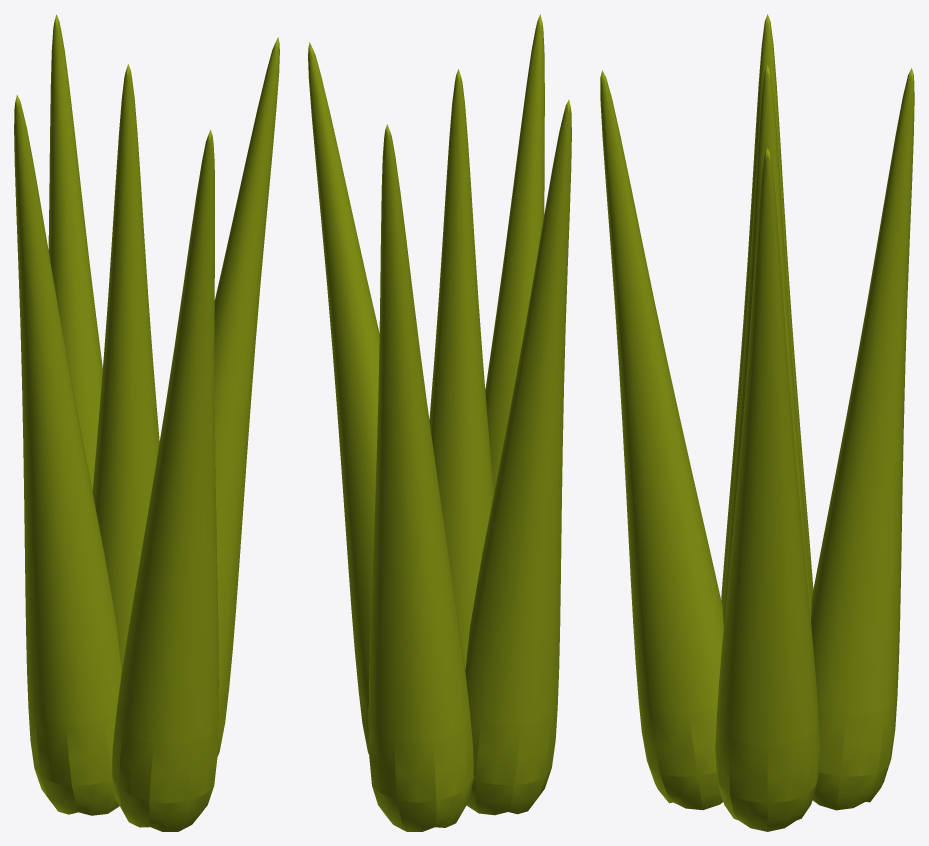
The model's file is grass.fbx.
3 views of the same model, side by side, from view 1: azimuth 30°, elevation 25°; view 2: azimuth 150°, elevation 25°; view 3: azimuth 270°, elevation 25° (orthographic).
Visible parts, largest first — view 1: mesh03, mesh04, mesh01, mesh05, mesh02; view 2: mesh02, mesh04, mesh01, mesh05, mesh03; view 3: mesh05, mesh02, mesh03, mesh01, mesh04.
Boxes of the visible parts, <box> form: mesh03: <box>112,129,218,831</box>; mesh04: <box>14,95,121,815</box>; mesh01: <box>92,64,159,671</box>; mesh05: <box>214,37,279,756</box>; mesh02: <box>48,14,102,490</box>; mesh02: <box>368,124,473,831</box>; mesh04: <box>465,100,571,815</box>; mesh01: <box>429,69,493,669</box>; mesh05: <box>308,42,379,754</box>; mesh03: <box>485,14,544,492</box>; mesh05: <box>715,148,819,831</box>; mesh02: <box>811,68,914,810</box>; mesh03: <box>600,70,723,809</box>; mesh01: <box>722,65,811,627</box>; mesh04: <box>721,14,813,605</box>.
Bounding box in the file's own units: 22.17 × 58.63 × 22.71.
